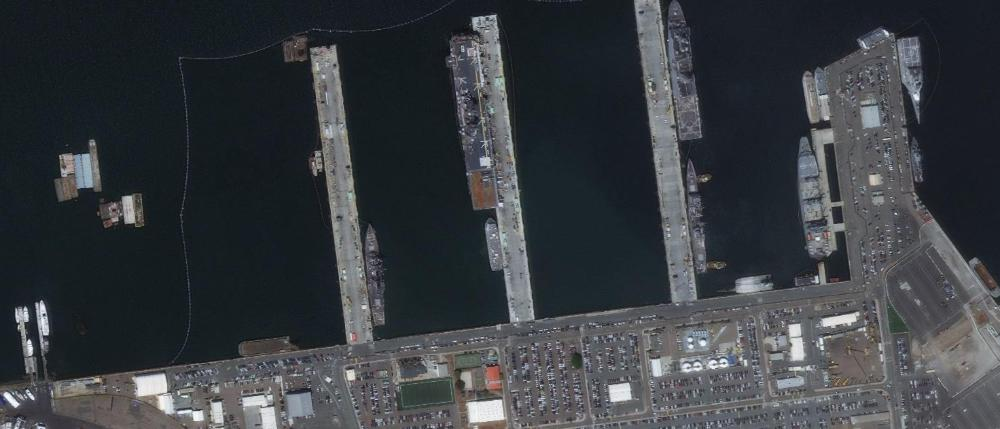destroyer: (680, 158, 710, 277)
fregate: (359, 223, 390, 328)
littoral combat ship: (900, 35, 929, 128)
pha: (447, 32, 502, 211)
tender: (796, 136, 834, 260)
